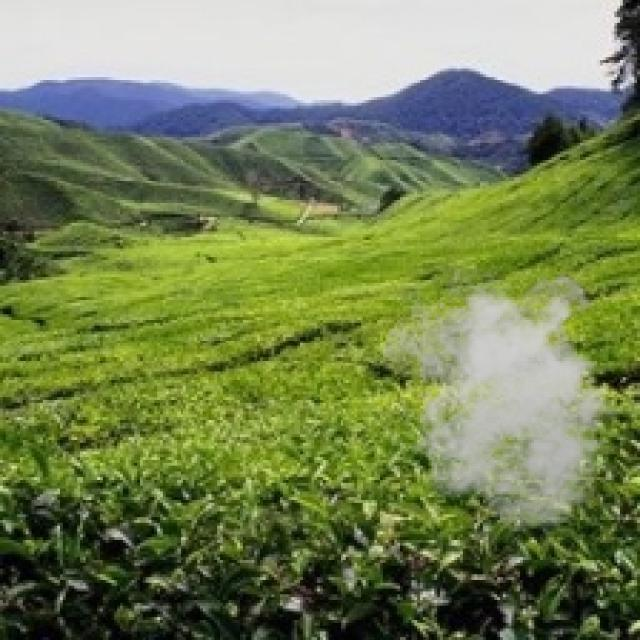smoke: (383, 268, 634, 532)
